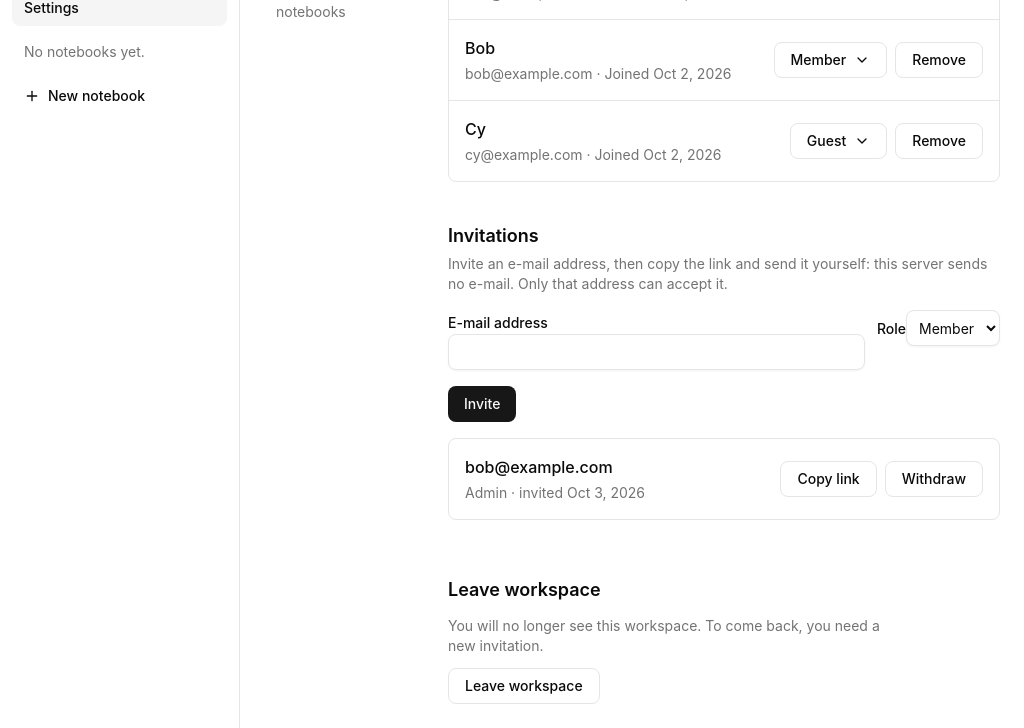
the only admin cannot leave: the dialog says why, and the workspace stays: workspace.sole_admin
(page scrolled)
Click the button "Leave workspace" at [524, 686], box [448, 668, 600, 704]
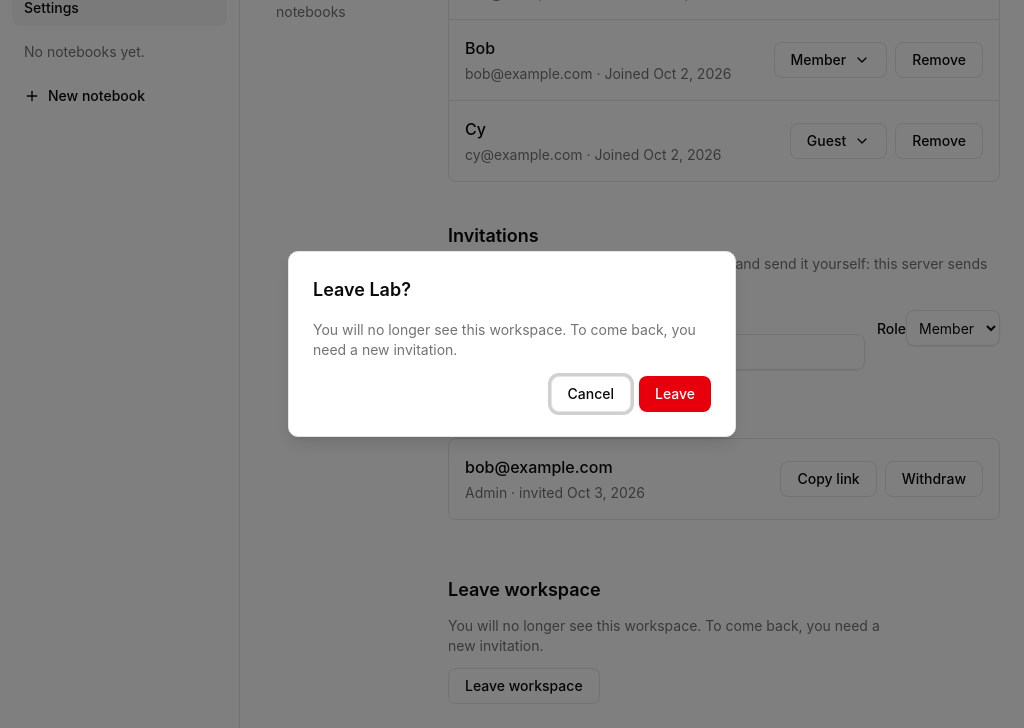
Click the button "Leave" at [675, 394], box [639, 376, 711, 412]
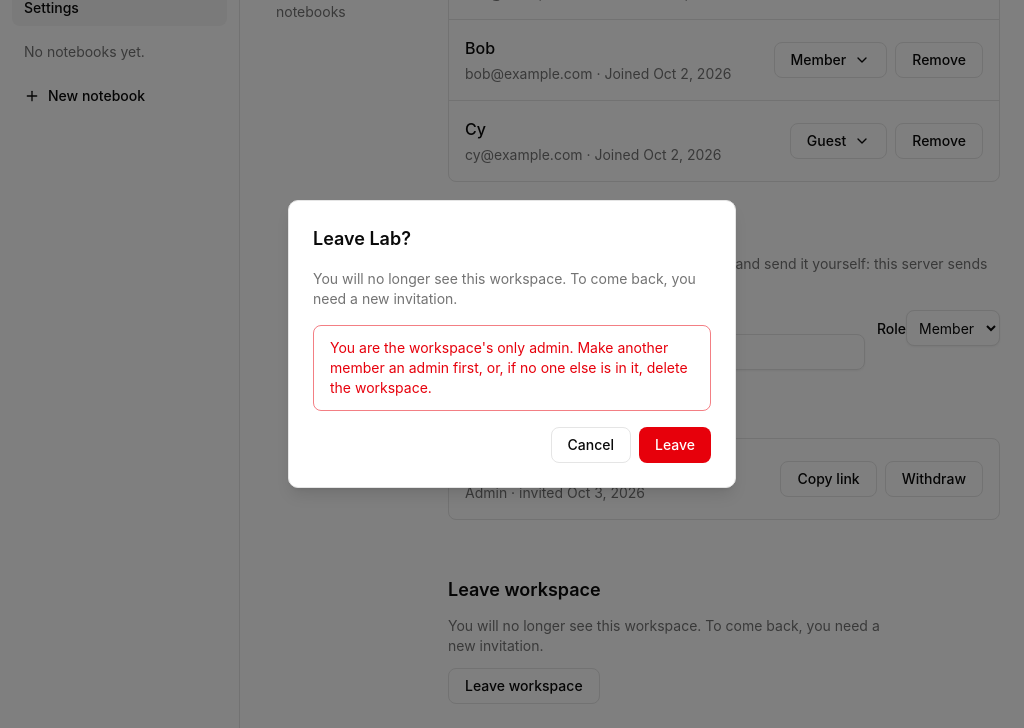
Expected: the message shows "You are the workspace's only admin. Make another member an admin first, or, if no one else is in it, delete the workspace.", [330, 339, 688, 396]
